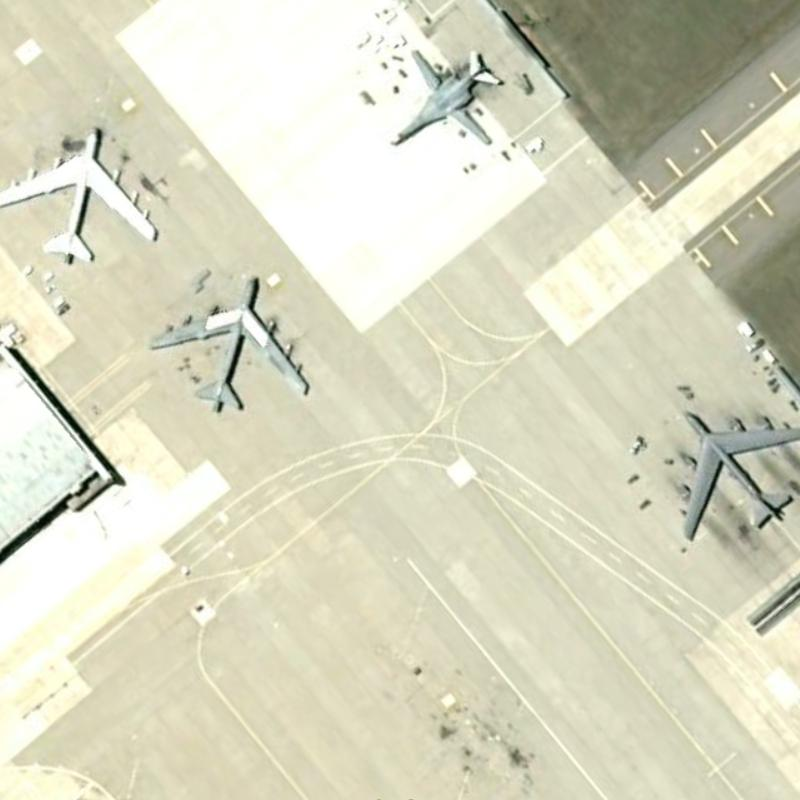A10: (380, 43, 509, 147)
A8: (142, 268, 316, 419), (3, 113, 167, 272), (671, 403, 799, 547)
